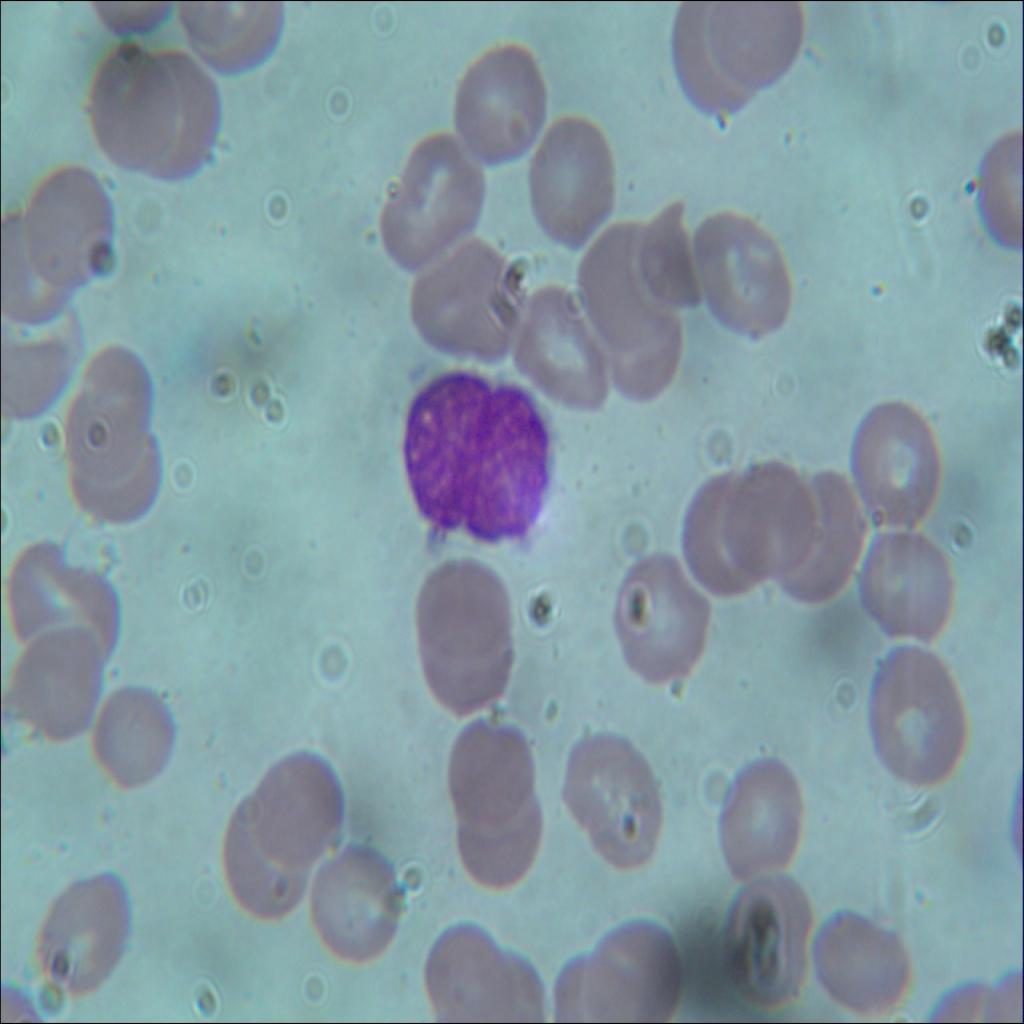Eritrosit: (2, 539, 126, 675), (563, 719, 668, 862), (412, 234, 526, 364), (869, 644, 970, 790), (376, 136, 490, 264), (846, 390, 944, 532), (34, 864, 136, 994), (609, 554, 713, 680), (723, 867, 818, 1002), (510, 287, 609, 412), (454, 40, 552, 166), (578, 908, 684, 1023), (528, 111, 621, 242), (2, 624, 108, 738), (676, 465, 763, 602), (574, 222, 660, 360), (858, 528, 960, 644), (216, 794, 310, 915), (726, 458, 818, 580), (696, 215, 790, 334), (63, 354, 153, 478), (89, 48, 179, 169), (778, 472, 861, 602), (441, 707, 536, 820), (420, 915, 518, 1023), (139, 51, 223, 177), (0, 301, 86, 423), (315, 841, 399, 964), (261, 748, 348, 864), (412, 620, 518, 714), (822, 906, 916, 1011), (0, 210, 81, 331), (721, 758, 801, 879), (698, 0, 804, 91), (28, 172, 114, 284), (416, 552, 506, 657), (88, 684, 169, 794), (458, 798, 548, 892), (73, 432, 166, 518), (638, 207, 704, 307), (610, 308, 682, 395)
Limfoblast: (395, 372, 554, 547)
Platelet: (956, 177, 981, 210)
